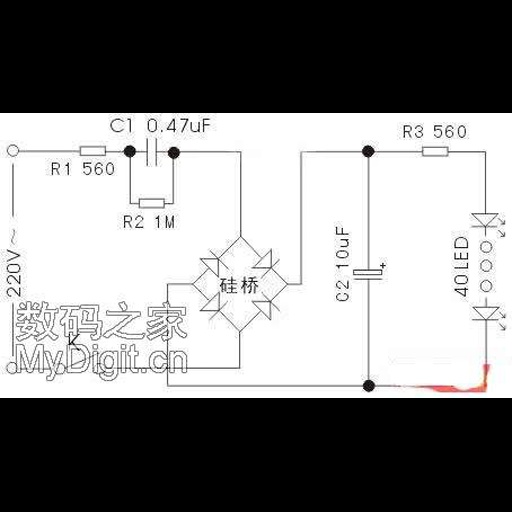capacitor: (143, 134, 161, 169)
firstresistance: (135, 194, 167, 211), (418, 145, 457, 158), (75, 144, 110, 158)
rectifierbridge: (190, 232, 291, 332)
secondled: (468, 303, 509, 334), (470, 207, 507, 239)
secondpolarcapacitor: (353, 260, 387, 283)
